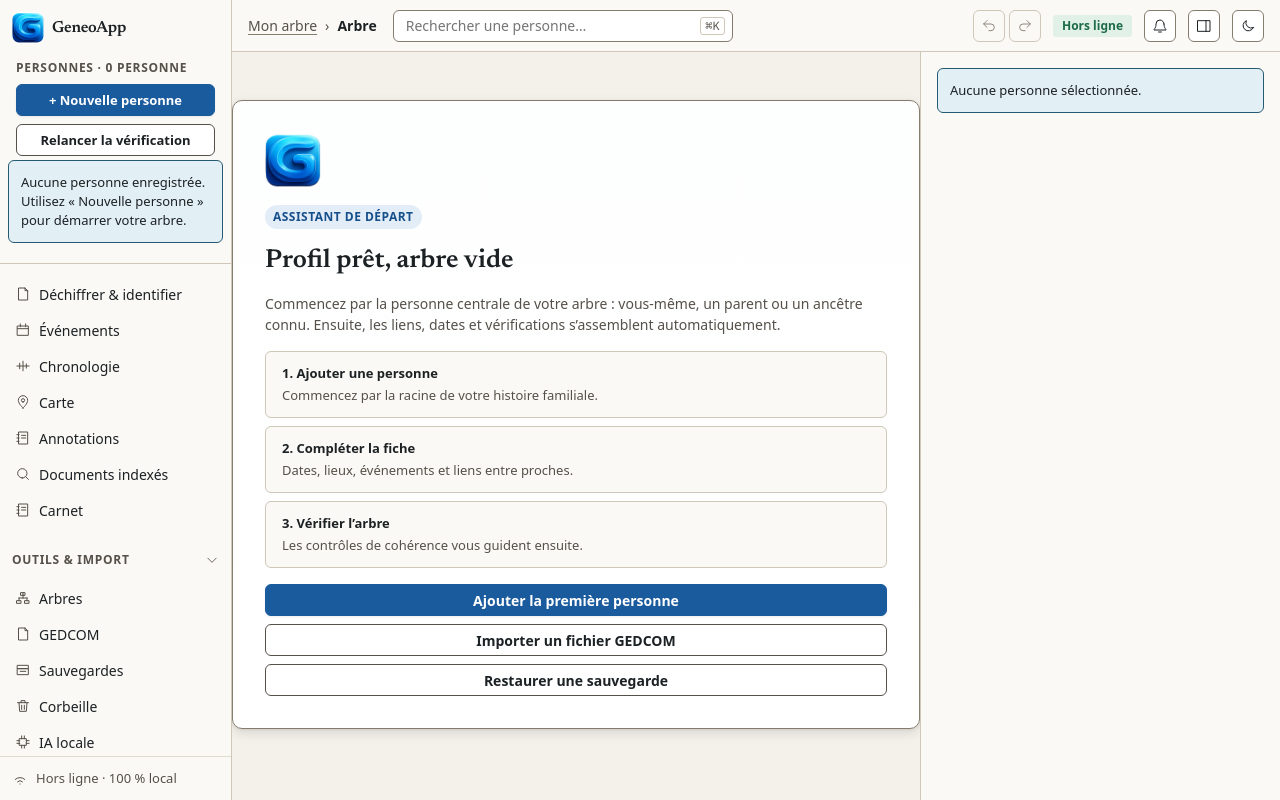
Test: App › gère le carnet de recherche via le client API (aucune donnée fictive)
(page scrolled)
Expected: the text "Aucune personne enregistrée" is shown, [21, 173, 205, 229]
Click the button "Carnet" at x=116, y=510, box [4, 492, 227, 528]
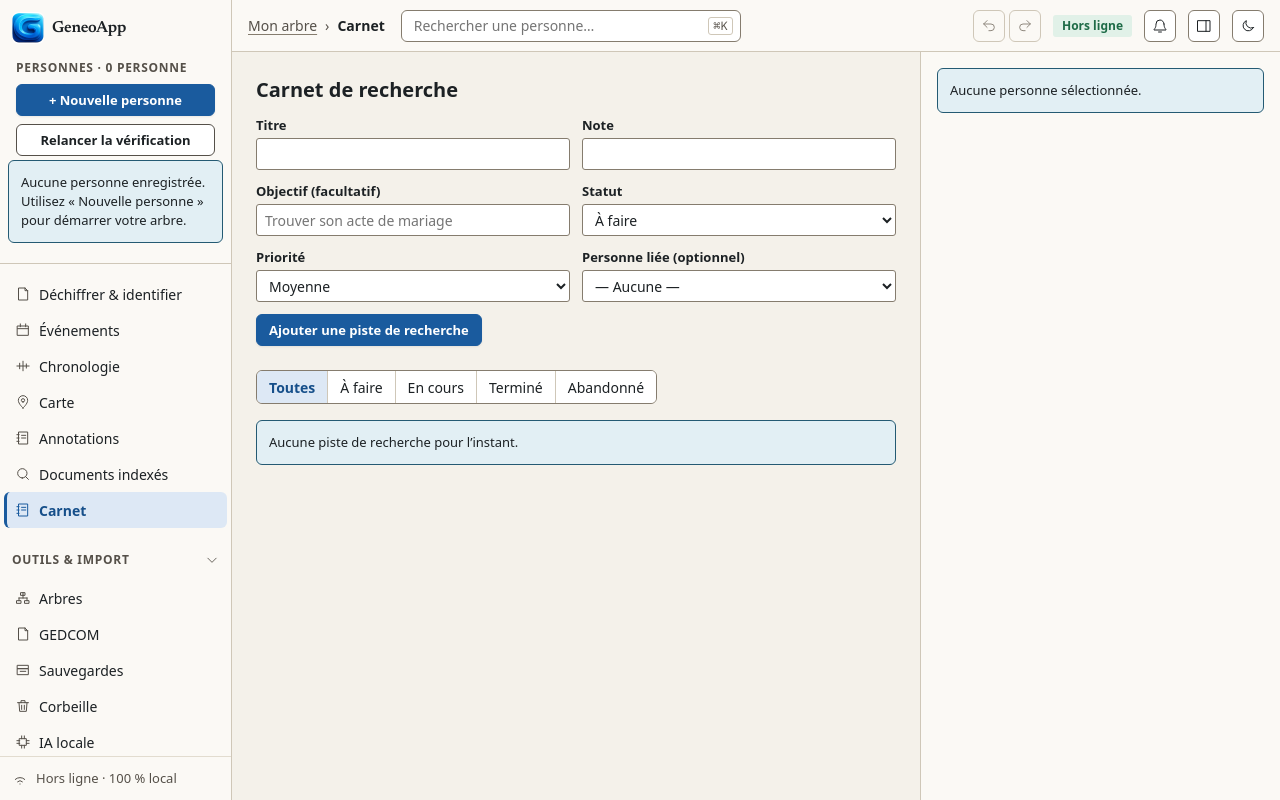
Now the text "Aucune piste de recherche pour l’instant." is shown, box [256, 420, 896, 465]
Type "Acte à vérifier" into the field labelled "Titre" at x=413, y=154, box [256, 138, 570, 170]
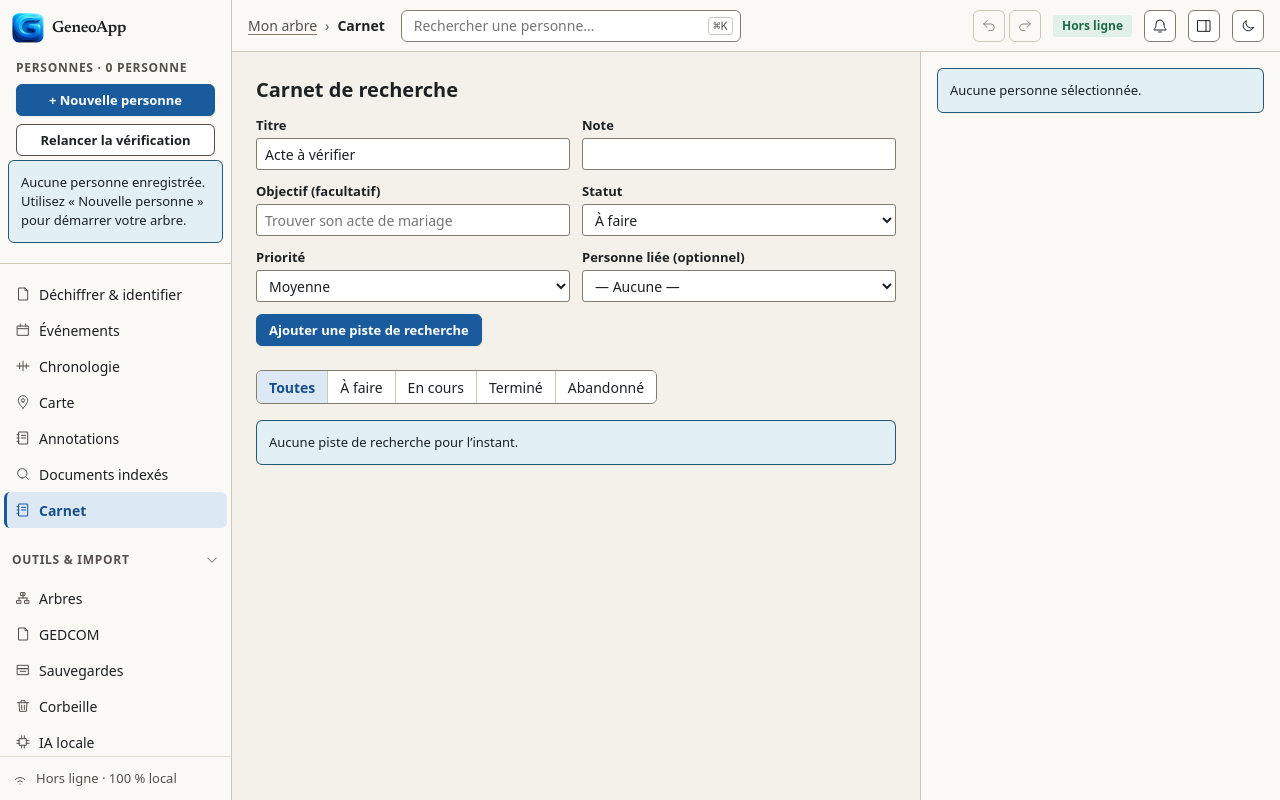
Type "Registre paroissial 1850" into the field labelled "Note" at x=739, y=154, box [582, 138, 896, 170]
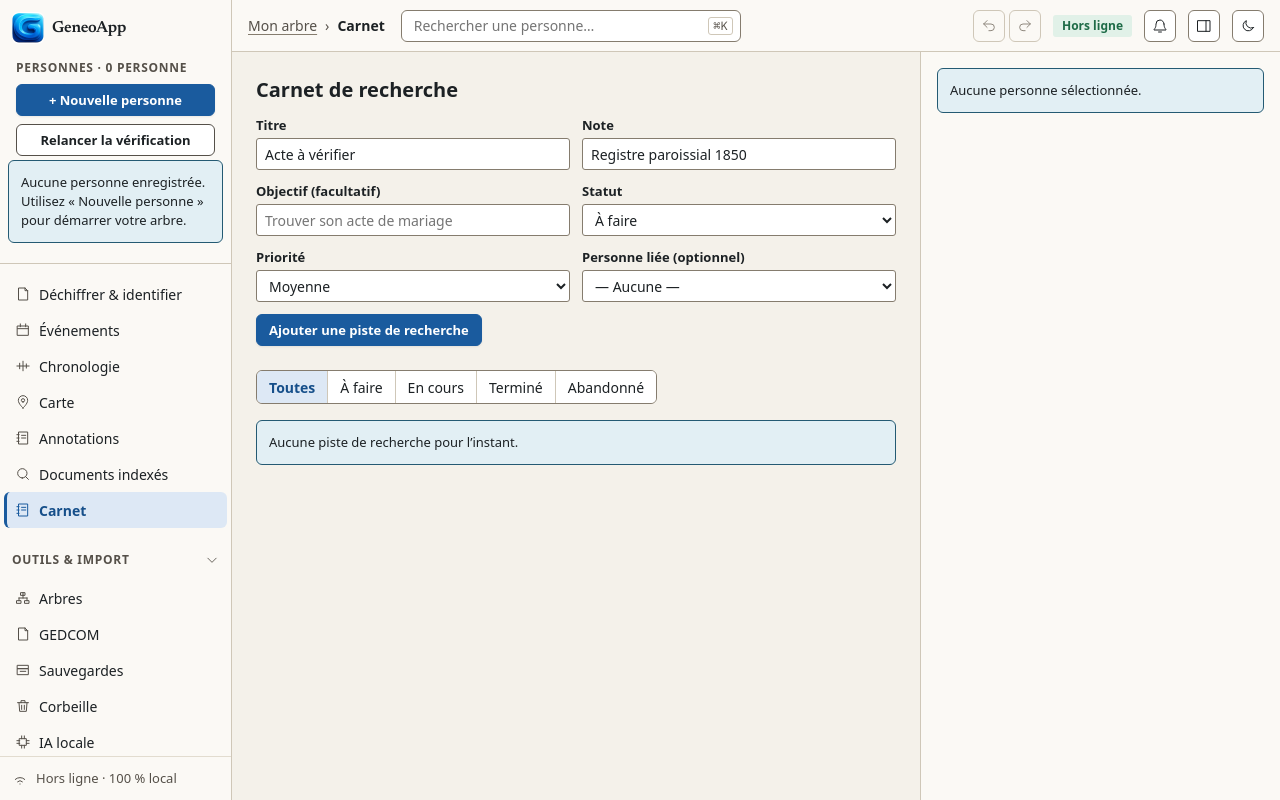
Click the button "Ajouter une piste de recherche" at x=369, y=330, box [256, 314, 482, 346]
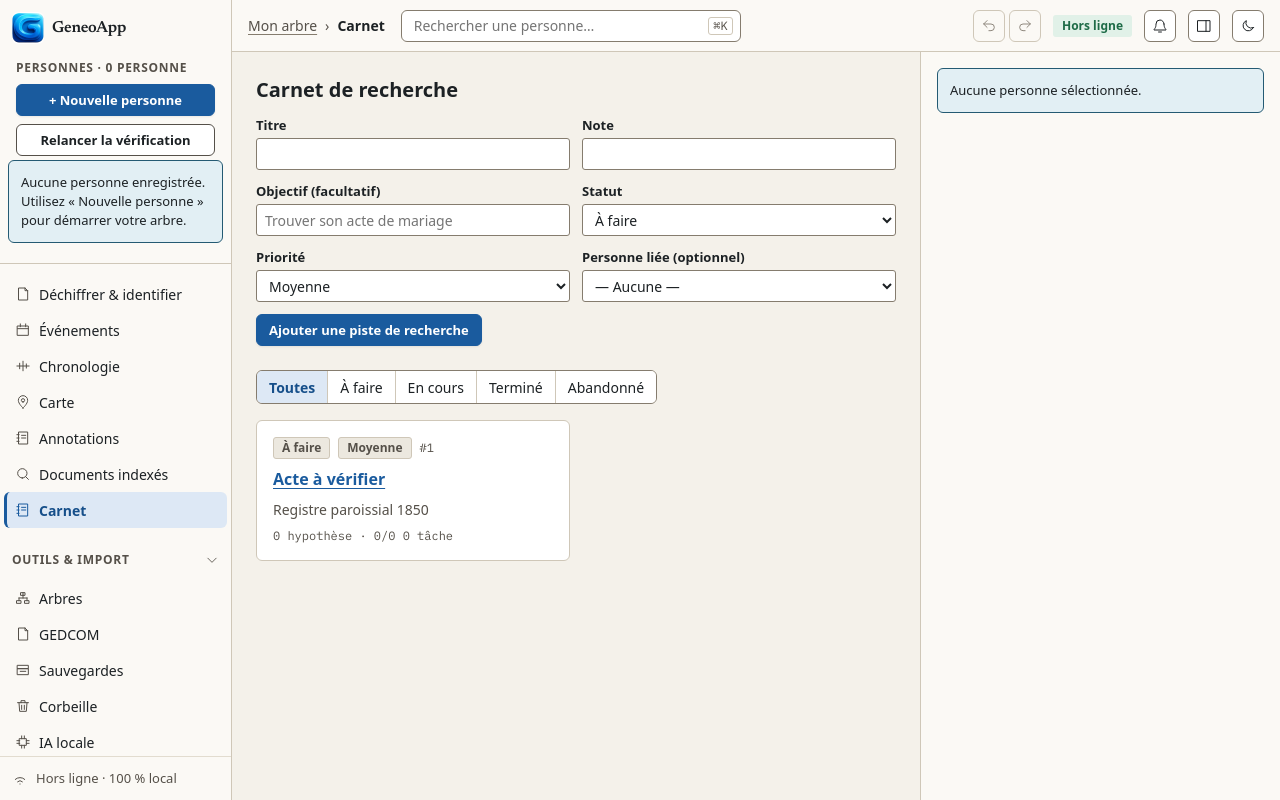
Now the text "Registre paroissial 1850" is shown, box [273, 500, 429, 519]
